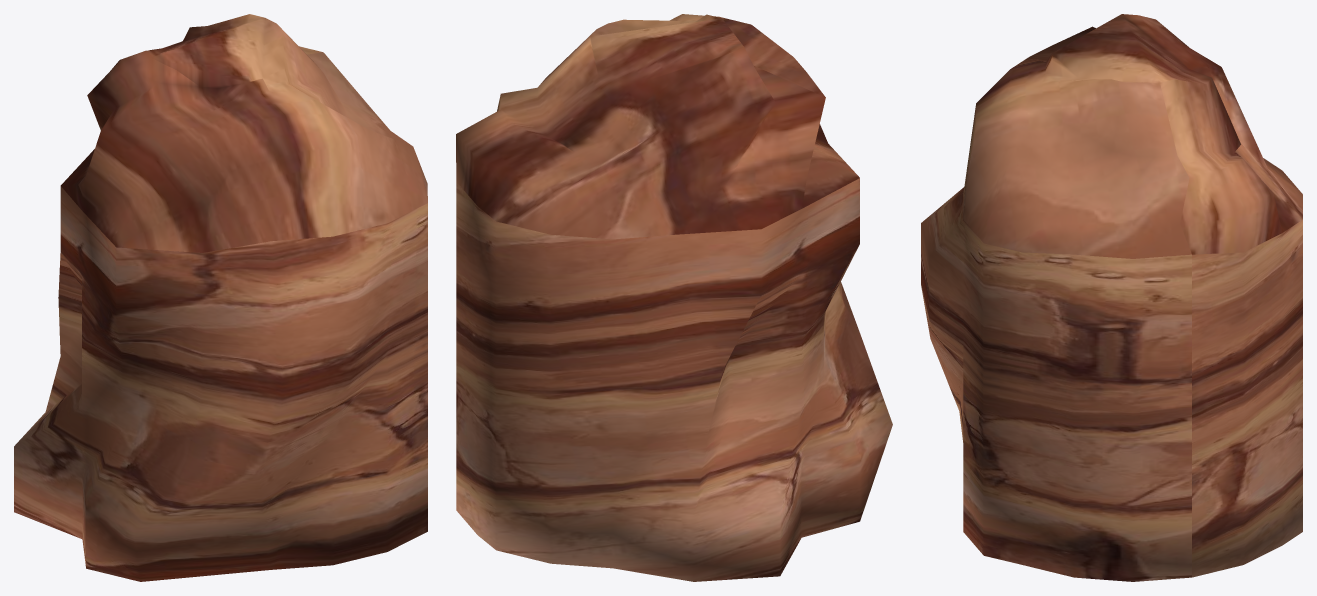
File: Canyon.fbx
The picture shows the model from 3 angles, left to right: view 1: azimuth 30°, elevation 25°; view 2: azimuth 150°, elevation 25°; view 3: azimuth 270°, elevation 25°; orthographic projection. The views are drawn at different scales.
Parts seen in each view (by area): view 1: Canyon; view 2: Canyon; view 3: Canyon.
Boxes of the visible parts, x1,y1,x2,y2 form: Canyon: (14, 14, 427, 581); Canyon: (456, 14, 892, 581); Canyon: (921, 14, 1302, 581).
Size of the model in its own units: 112 by 143 by 111.
Materials: 1 (1 with a texture image).
